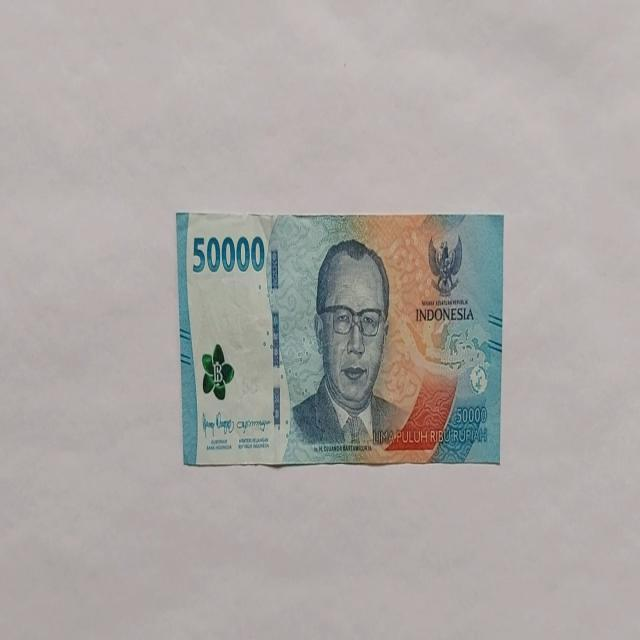lima puluh ribu rupiah: (176, 210, 504, 468), (288, 238, 410, 452)
